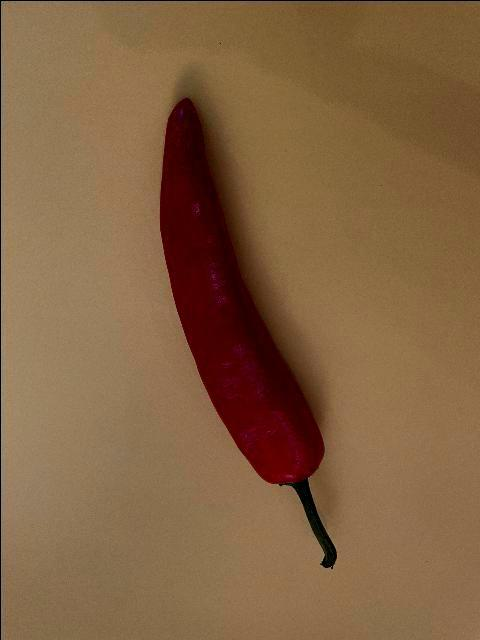chilli: (157, 96, 337, 568)
